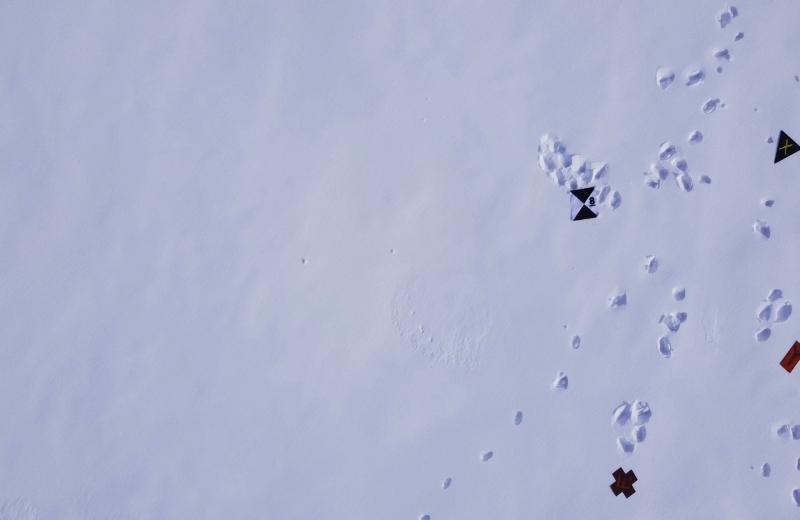Cross: (610, 465, 640, 502)
Rectangle: (775, 337, 800, 375)
Triangle: (771, 125, 800, 168)
